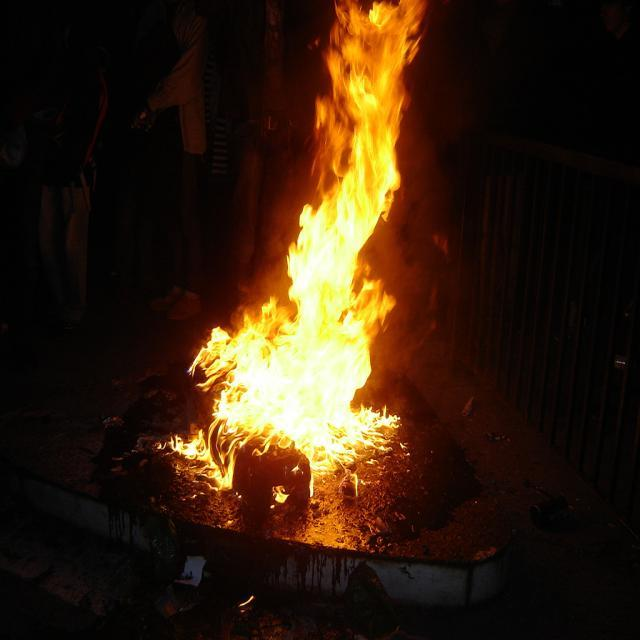Fire: (275, 0, 443, 302), (155, 294, 405, 494)
